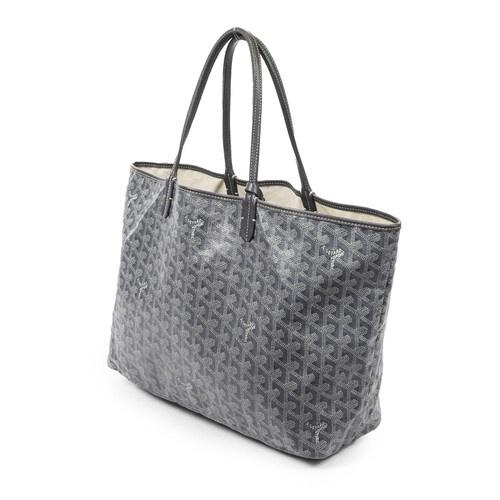GOYARD: (108, 166, 401, 461)
